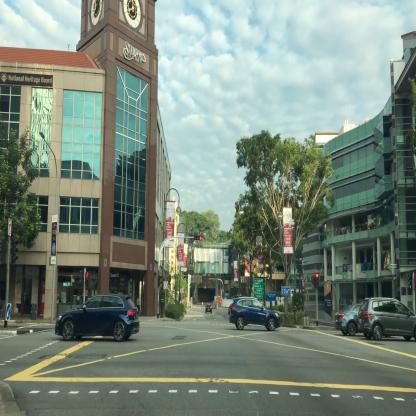red_traffic_light: (315, 273, 318, 288), (193, 236, 202, 240)
